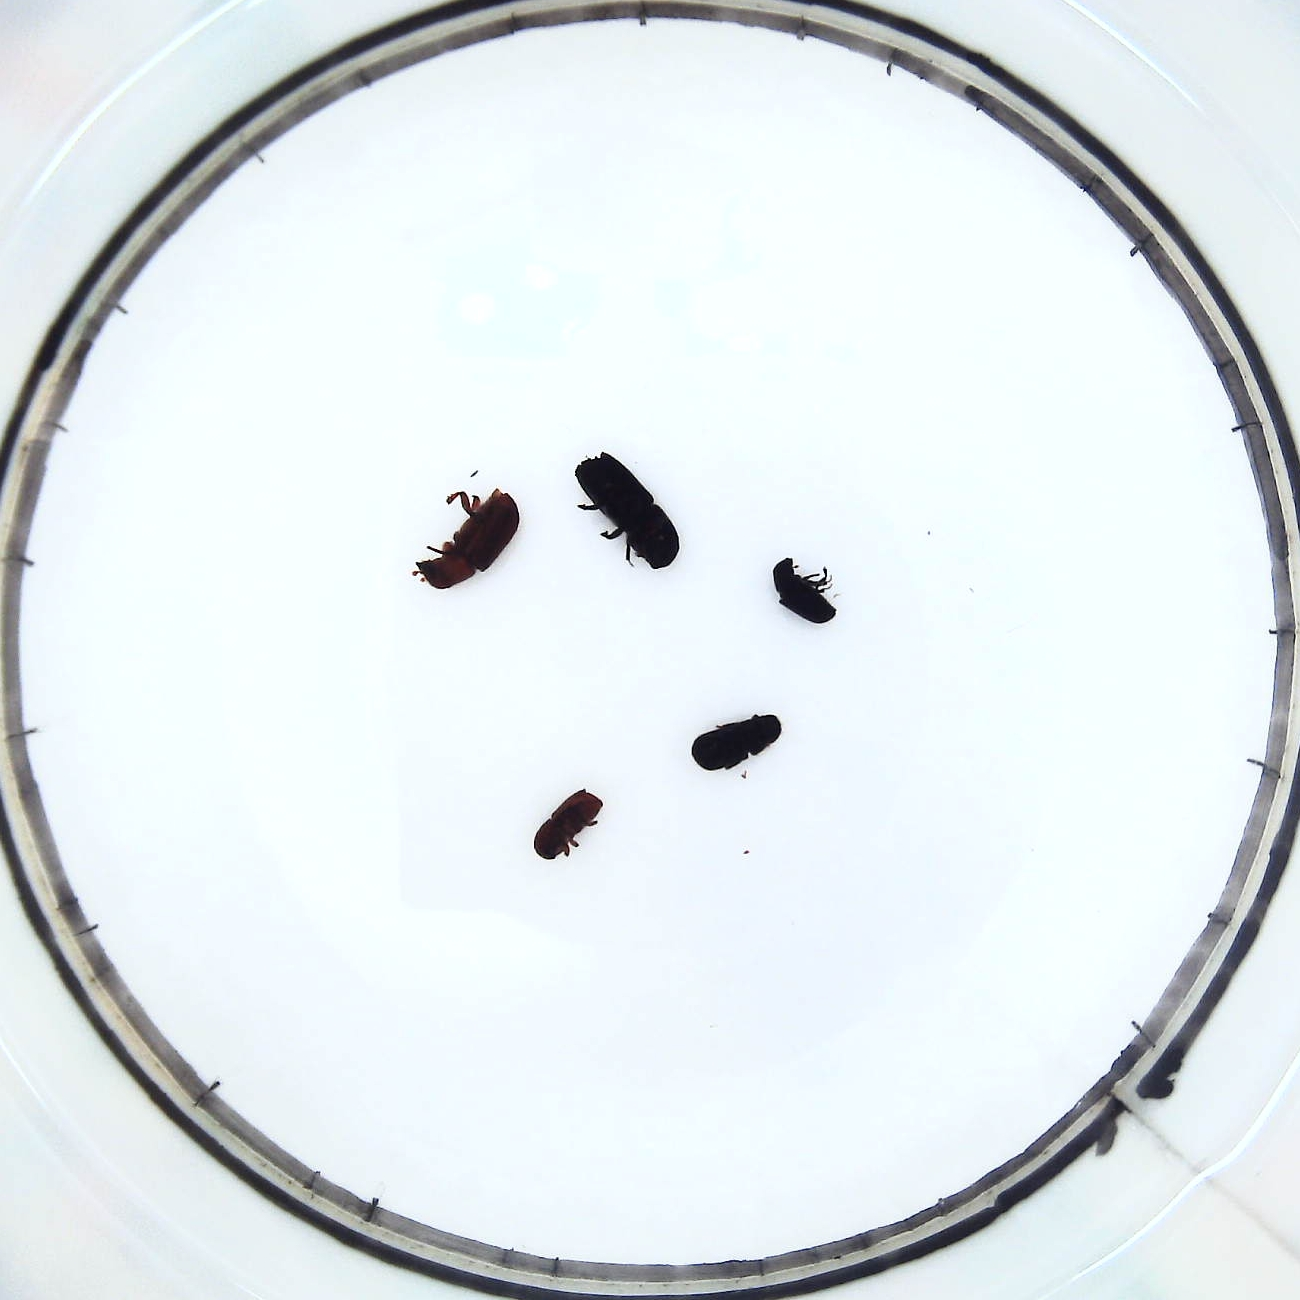Boerner: (570, 446, 682, 577)
Leconte: (407, 485, 529, 595)
armandi: (685, 710, 787, 773)
coleoptera: (770, 551, 843, 631)
linnaeus: (535, 787, 604, 868)
